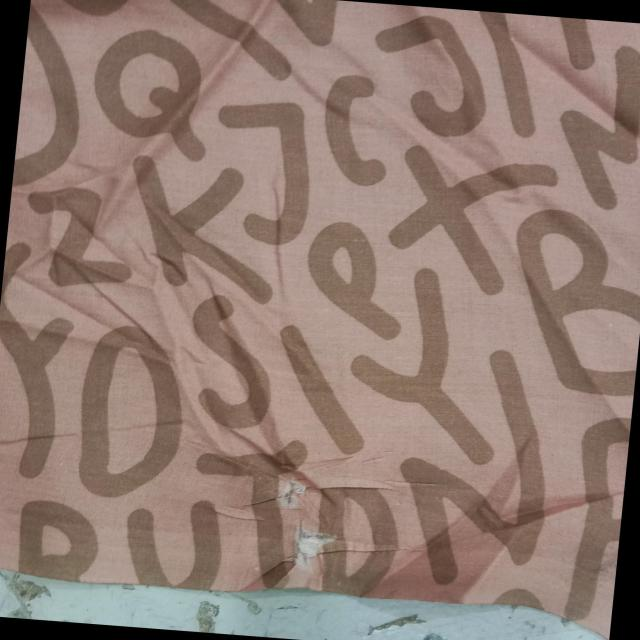cut: (234, 452, 398, 589)
